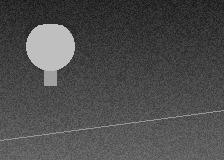no_helmet: (26, 20, 74, 75)
